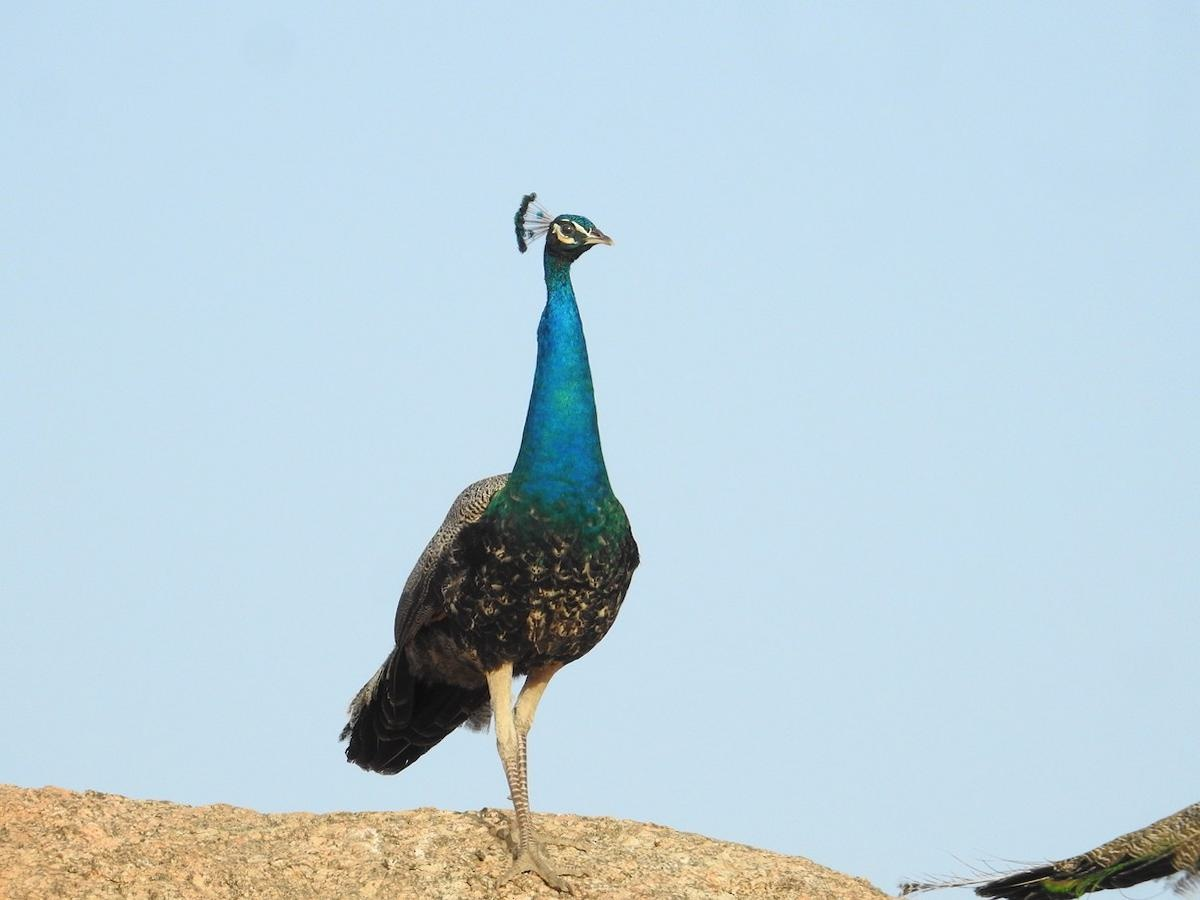peacock: (336, 155, 654, 900)
